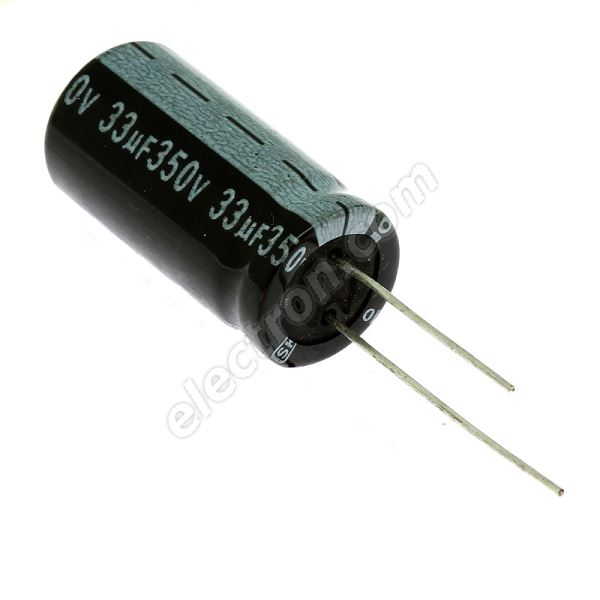capacitor: (32, 20, 485, 456)
